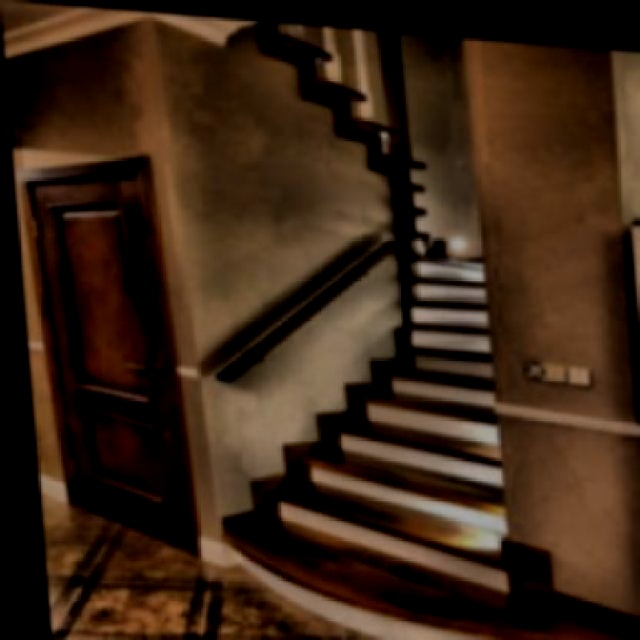stair: (212, 239, 568, 576)
